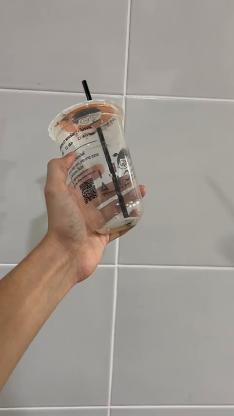Plastic Cup: (48, 99, 144, 236)
